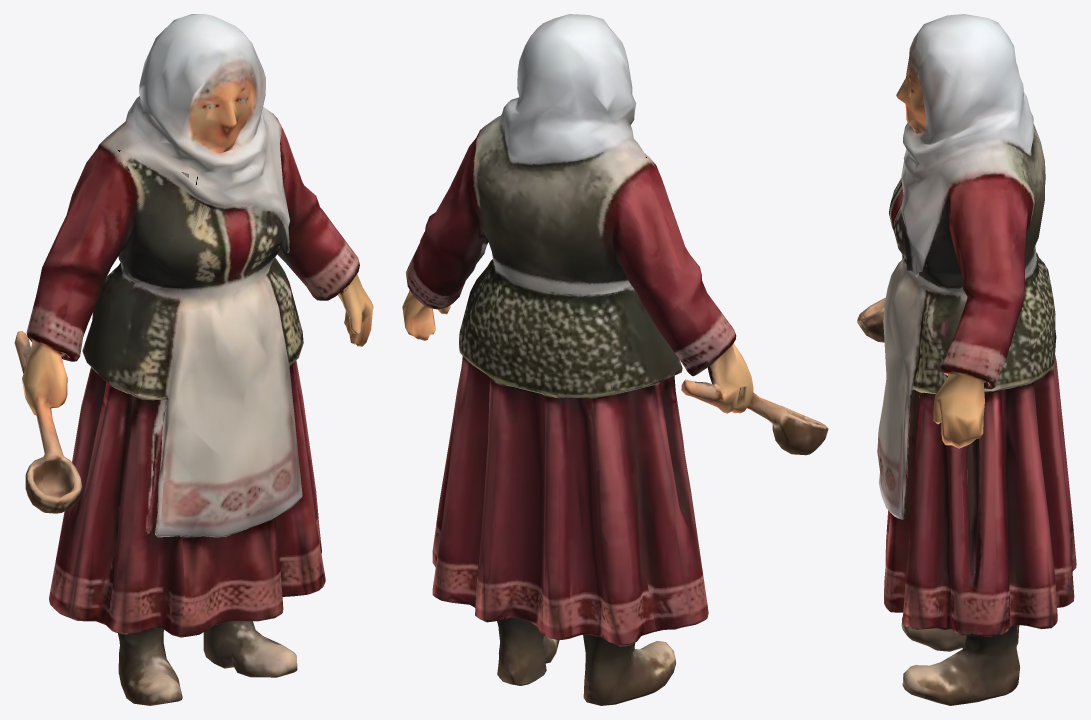
The model's file is cook.gen.glb.
3 views of the same model, side by side, from view 1: azimuth 30°, elevation 25°; view 2: azimuth 150°, elevation 25°; view 3: azimuth 270°, elevation 25° (orthographic).
Visible parts, largest first — view 1: cook.raw; view 2: cook.raw; view 3: cook.raw.
Boxes of the visible parts, x1,y1,x2,y2 form: cook.raw: [14, 14, 373, 705]; cook.raw: [402, 14, 828, 705]; cook.raw: [857, 14, 1076, 705].
Size of the model in its own units: 1.06 by 1.75 by 0.5322.
1 material, 1 textured.
